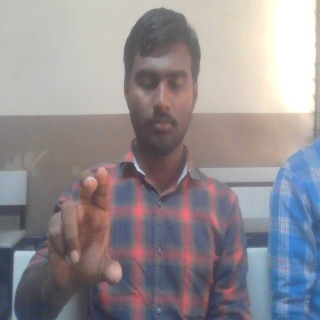Face: (122, 8, 203, 156)
No: (45, 164, 126, 288)
